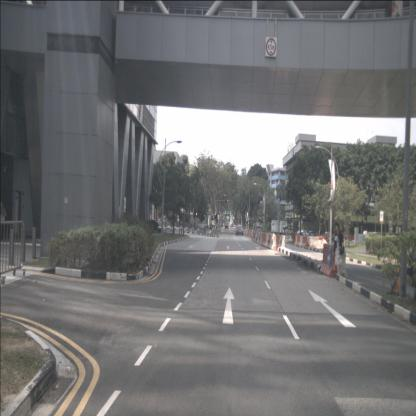barrier: (320, 243, 339, 278), (309, 236, 324, 249), (315, 236, 327, 249), (269, 234, 276, 249), (278, 235, 286, 248), (266, 234, 272, 249), (264, 233, 270, 248), (260, 232, 266, 246), (274, 234, 279, 250), (254, 232, 260, 244), (302, 236, 308, 247), (298, 236, 304, 246), (245, 228, 251, 237), (258, 232, 262, 244), (346, 234, 352, 241), (296, 235, 300, 245), (253, 231, 256, 241), (294, 235, 297, 245)
cone: (393, 266, 403, 294), (273, 239, 277, 251)
